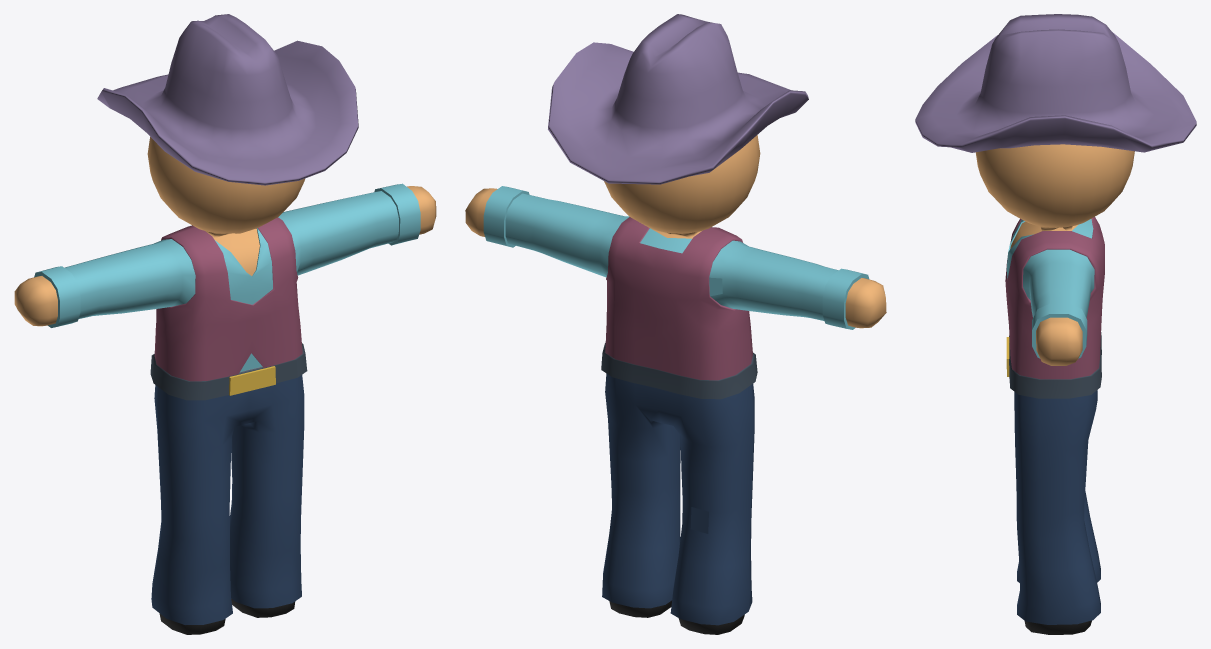
The model's file is Stickman.fbx.
3 renders of one model, left to right at view 1: azimuth 30°, elevation 25°; view 2: azimuth 150°, elevation 25°; view 3: azimuth 270°, elevation 25°, orthographic.
Parts seen in each view (by area): view 1: Stickman; view 2: Stickman; view 3: Stickman.
Boxes of the visible parts, bbox=[...] form: Stickman: bbox=[14, 14, 436, 634]; Stickman: bbox=[465, 14, 886, 634]; Stickman: bbox=[915, 14, 1196, 634].
Size of the model in its own units: 160 by 219 by 94.91.
